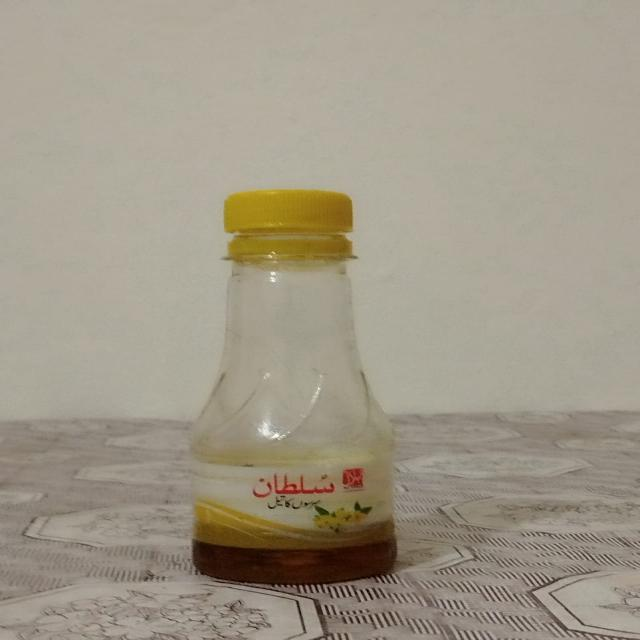bottle: (171, 173, 420, 588)
cap: (223, 182, 366, 266)
label: (193, 444, 396, 577)
